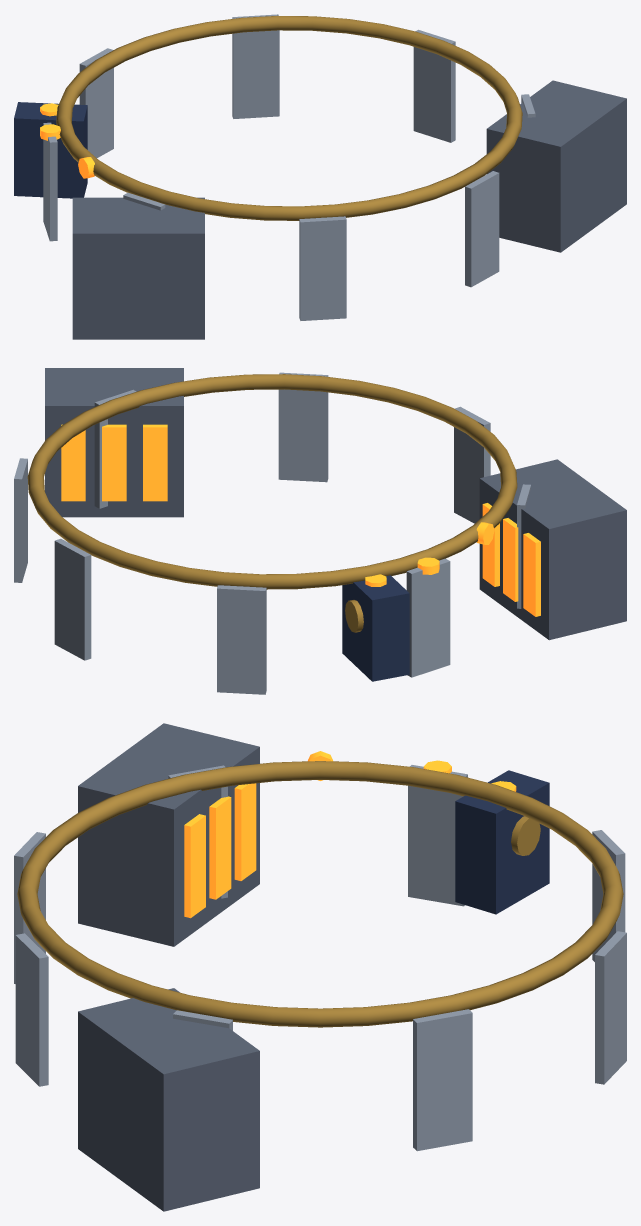
Rendered from tower_overclock_efficiency_s6.glb.
3 renders of one model, top to bottom at view 1: azimuth 30°, elevation 25°; view 2: azimuth 150°, elevation 25°; view 3: azimuth 270°, elevation 25°, orthographic. The views are drawn at different scales.
Parts seen in each view (by area): view 1: overclock_battery_b, overclock_battery, overclock_coolant_loop, overclock_base_fin6, overclock_regulator, overclock_base_fin2, overclock_base_fin3, overclock_base_fin5, overclock_base_fin1, overclock_base_fin0; view 2: overclock_coolant_loop, overclock_battery_b, overclock_battery, overclock_regulator, overclock_base_fin1, overclock_base_fin5, overclock_base_fin0, overclock_base_fin2, overclock_base_fin6, overclock_battery_cell0.1, overclock_battery_cell0, overclock_base_fin3 (+7 smaller); view 3: overclock_battery, overclock_coolant_loop, overclock_battery_b, overclock_regulator, overclock_base_fin3, overclock_base_fin0, overclock_base_fin5, overclock_base_fin2, overclock_battery_b_cell0, overclock_battery_b_cell0.1, overclock_battery_b_cell-0.1, overclock_base_fin1 (+2 smaller).
Boxes of the visible parts, bbox=[...] form: overclock_battery_b: bbox=[72, 197, 204, 339]; overclock_battery: bbox=[486, 80, 626, 252]; overclock_coolant_loop: bbox=[56, 15, 522, 220]; overclock_base_fin6: bbox=[299, 216, 346, 320]; overclock_regulator: bbox=[14, 102, 87, 198]; overclock_base_fin2: bbox=[232, 14, 279, 118]; overclock_base_fin3: bbox=[413, 29, 455, 142]; overclock_base_fin5: bbox=[465, 171, 499, 287]; overclock_base_fin1: bbox=[79, 48, 113, 157]; overclock_base_fin0: bbox=[43, 122, 57, 241]; overclock_coolant_loop: bbox=[27, 374, 517, 589]; overclock_battery_b: bbox=[479, 459, 626, 640]; overclock_battery: bbox=[45, 368, 183, 517]; overclock_regulator: bbox=[342, 575, 409, 681]; overclock_base_fin1: bbox=[217, 585, 266, 694]; overclock_base_fin5: bbox=[278, 372, 328, 482]; overclock_base_fin0: bbox=[406, 558, 450, 677]; overclock_base_fin2: bbox=[54, 538, 91, 660]; overclock_base_fin6: bbox=[454, 406, 490, 523]; overclock_battery_cell0.1: bbox=[143, 424, 167, 501]; overclock_battery_cell0: bbox=[102, 424, 126, 501]; overclock_base_fin3: bbox=[14, 458, 27, 582]; overclock_battery: bbox=[78, 988, 259, 1211]; overclock_coolant_loop: bbox=[17, 761, 623, 1027]; overclock_battery_b: bbox=[78, 723, 259, 946]; overclock_regulator: bbox=[455, 770, 549, 914]; overclock_base_fin3: bbox=[413, 1009, 472, 1151]; overclock_base_fin0: bbox=[408, 765, 467, 906]; overclock_base_fin5: bbox=[15, 933, 48, 1086]; overclock_base_fin2: bbox=[595, 931, 626, 1084]; overclock_battery_b_cell0: bbox=[209, 796, 231, 899]; overclock_battery_b_cell0.1: bbox=[234, 783, 256, 880]; overclock_battery_b_cell-0.1: bbox=[184, 814, 205, 918]; overclock_base_fin1: bbox=[592, 830, 625, 961].
Bounding box in the file's own units: 1.64 × 0.338 × 1.21.
